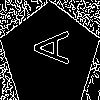A: (25, 30, 68, 64)
